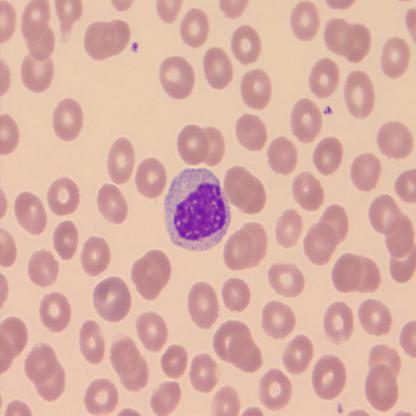Metamyelocyte: (161, 164, 233, 254)
